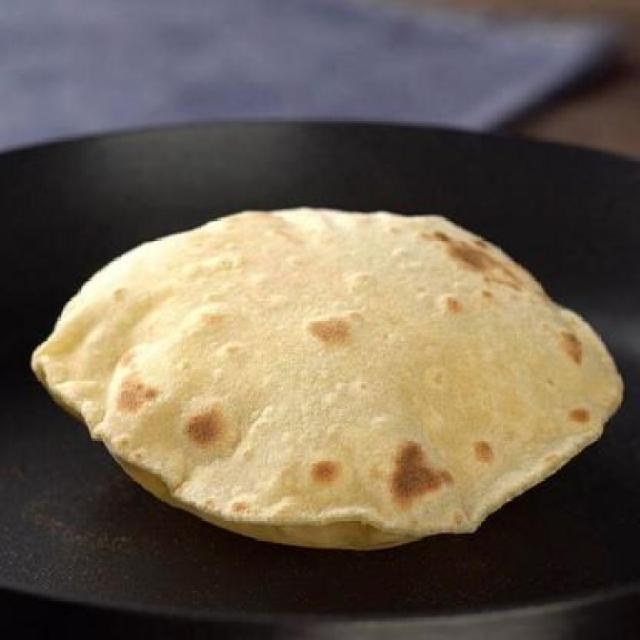chapati: (31, 208, 623, 548)
